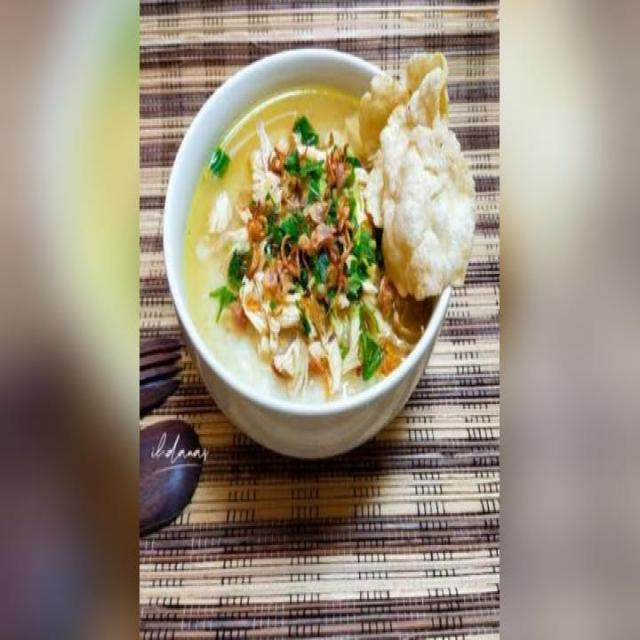bubur ayam: (183, 77, 432, 404)
mangkuk: (162, 44, 458, 462)
